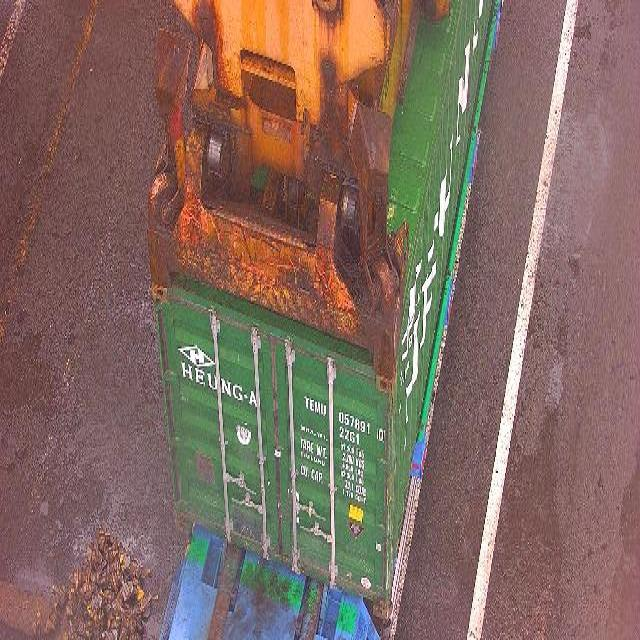ISO: (340, 427, 360, 445)
container_number: (300, 392, 386, 441)
